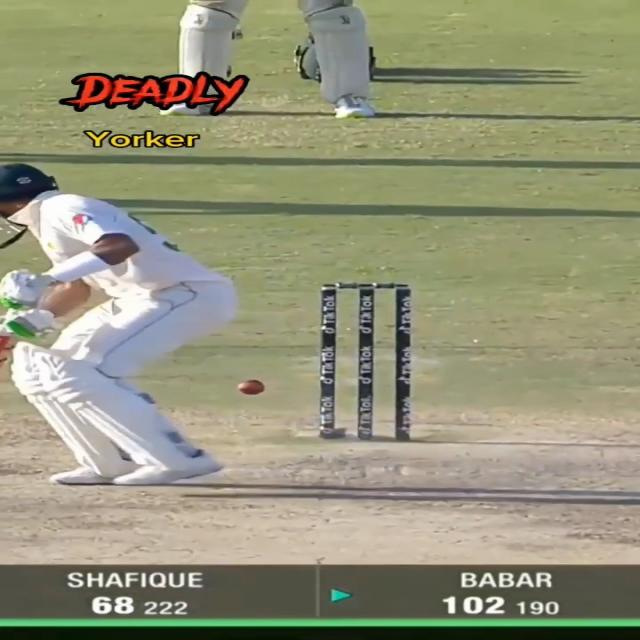ball: (236, 378, 268, 396)
stump: (317, 281, 414, 442)
